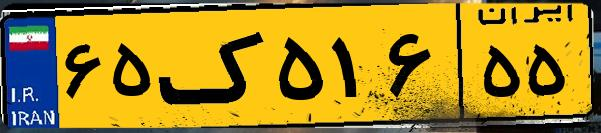1: (330, 28, 385, 110)
5: (270, 28, 330, 110), (475, 38, 525, 113), (525, 38, 570, 115), (110, 28, 158, 98)
6: (385, 28, 445, 110), (57, 26, 110, 100)
ک: (158, 12, 270, 120)
